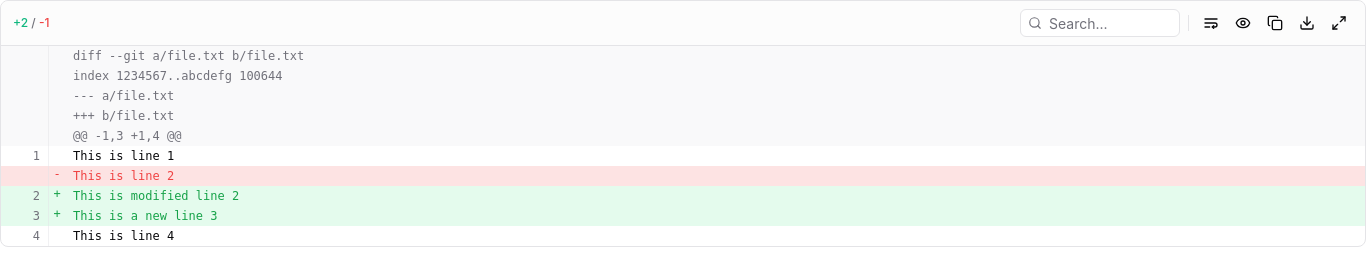
Test: DiffViewer › search functionality › should filter lines based on search query
In the field with placeholder "Search...": (1100, 23) x1=1020 y1=9 x2=1180 y2=37, type "modified"
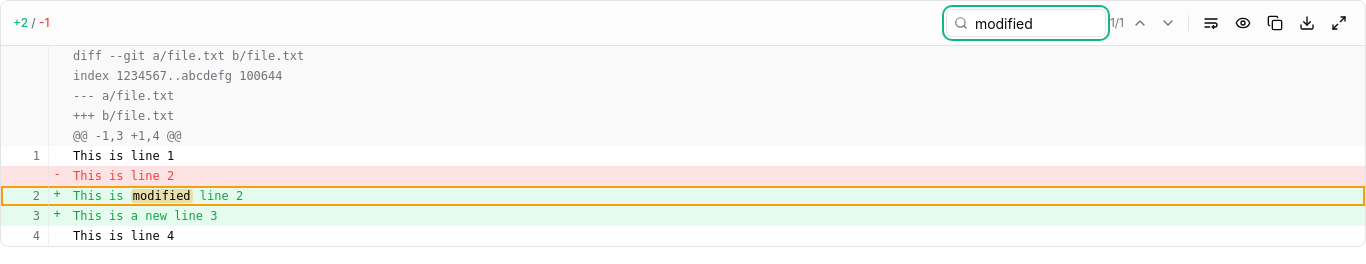
Expected: the text "1/1" is shown, x1=1110 y1=15 x2=1124 y2=31
